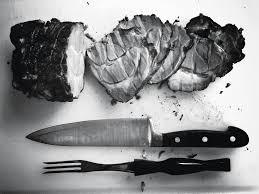Knife: (25, 116, 249, 147), (40, 157, 230, 175)
